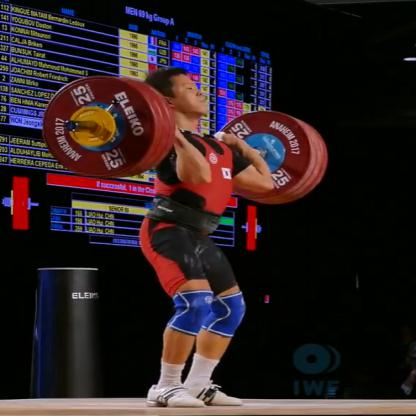Barbell: (30, 66, 184, 192)
